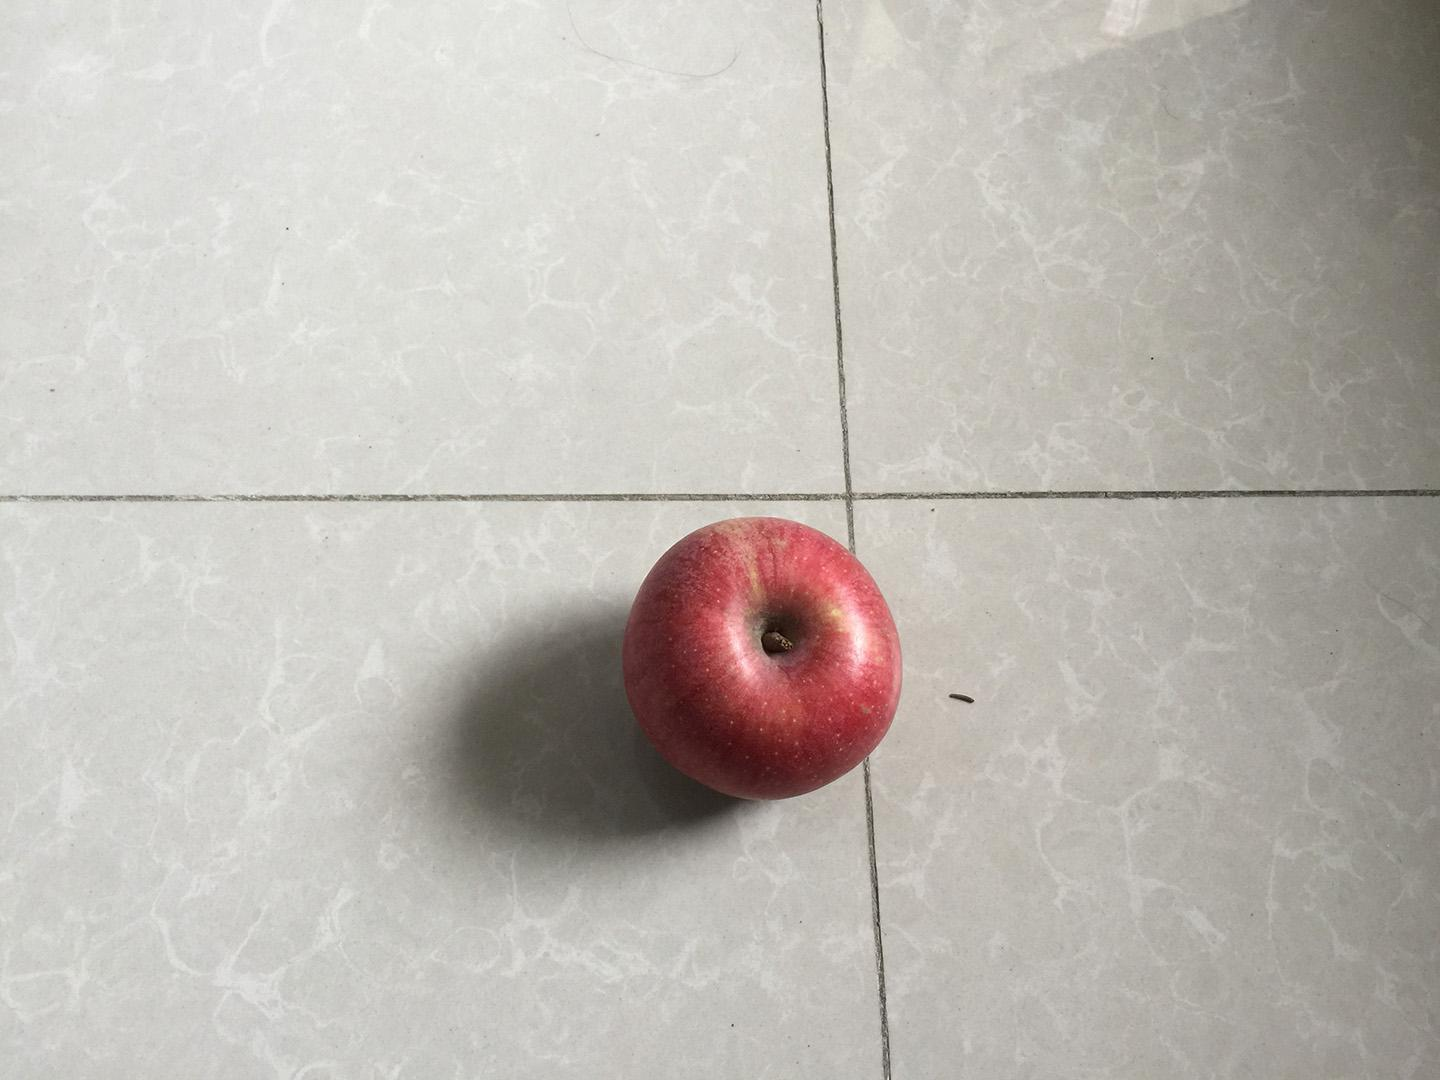apple: (619, 511, 909, 809)
